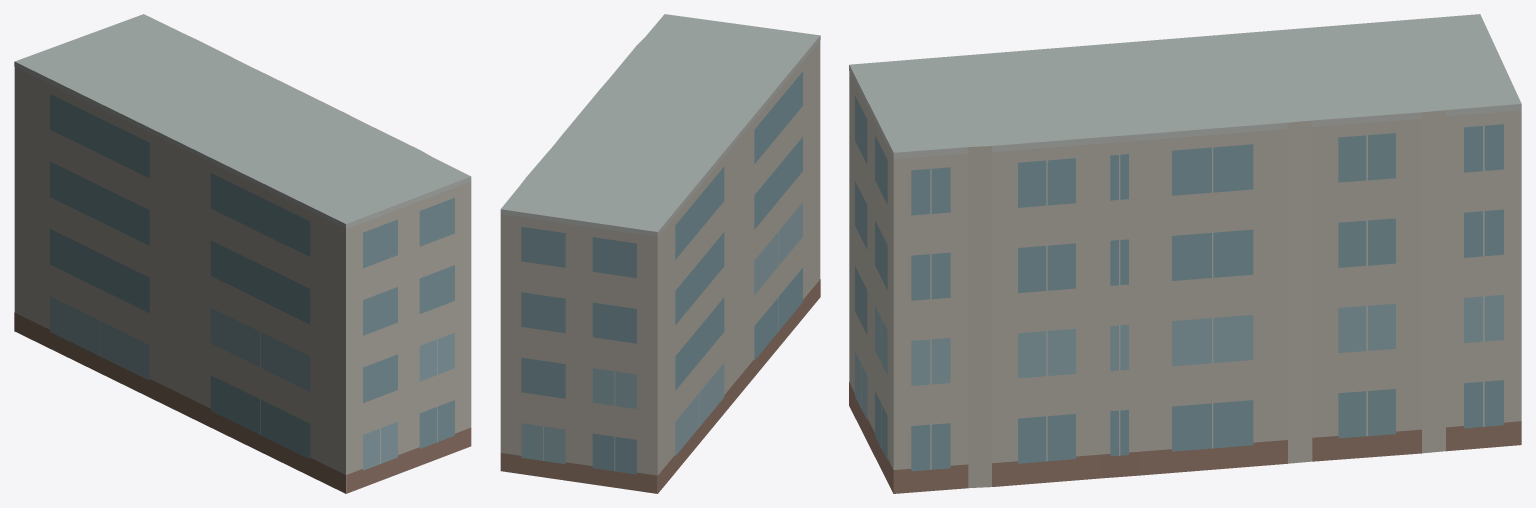
Rendered from survey-upis-32705672.glb.
3 renders of one model, left to right at view 1: azimuth 30°, elevation 25°; view 2: azimuth 150°, elevation 25°; view 3: azimuth 270°, elevation 25°, orthographic. The views are drawn at different scales.
Visible parts, largest first — view 1: survey-upis-32705672.tmp; view 2: survey-upis-32705672.tmp; view 3: survey-upis-32705672.tmp.
Part boxes in pixels (box(x1,y1,x2,y2)): survey-upis-32705672.tmp: box(14, 14, 471, 493); survey-upis-32705672.tmp: box(500, 14, 820, 493); survey-upis-32705672.tmp: box(849, 14, 1521, 493).
Size of the model in its own units: 11.44 by 13.1 by 23.42.
